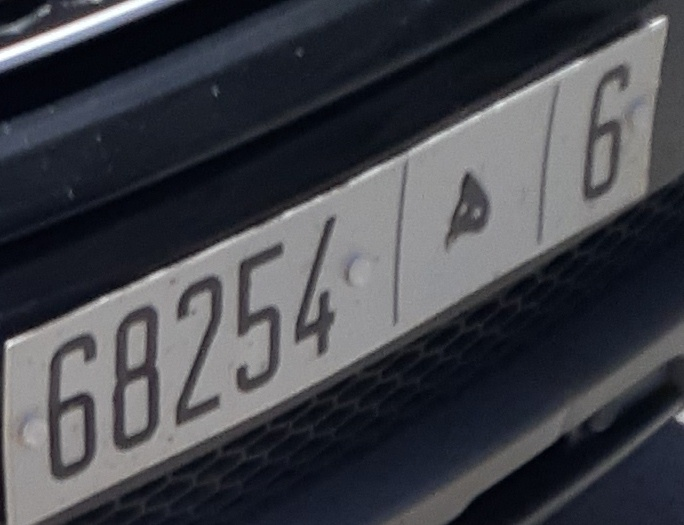2: (169, 271, 224, 431)
4: (294, 212, 341, 362)
5: (228, 238, 289, 394)
6: (33, 324, 102, 483), (577, 60, 631, 209)
8: (106, 304, 161, 457)
h: (427, 158, 508, 263)
